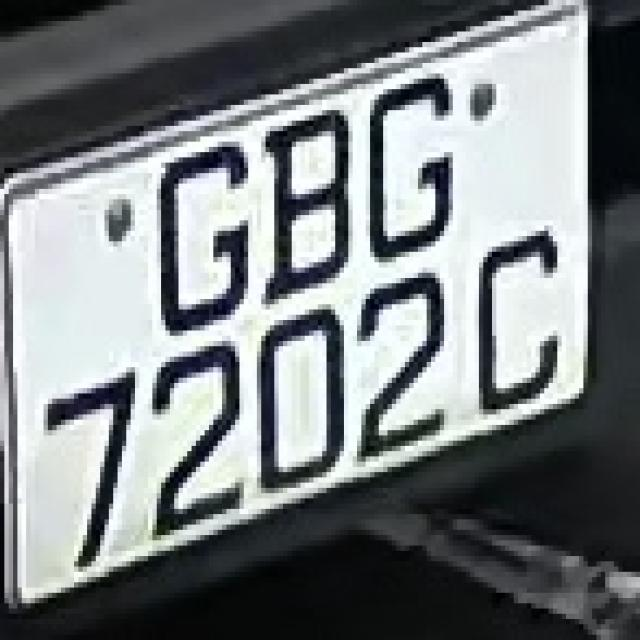0: (244, 294, 348, 498)
2: (348, 257, 453, 456), (135, 341, 248, 525)
7: (44, 373, 152, 577)
B: (253, 94, 357, 304)
C: (462, 220, 574, 420)
G: (135, 136, 261, 346), (374, 58, 470, 272)
